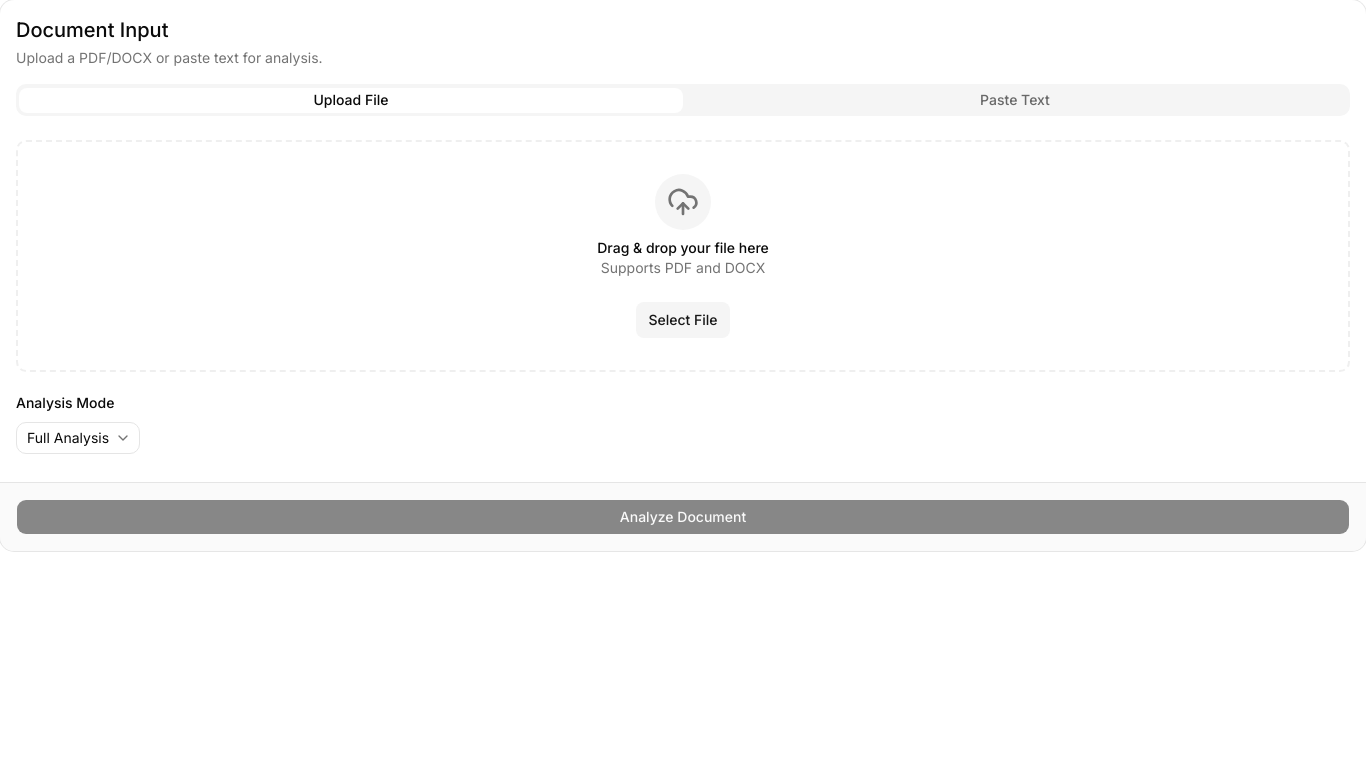
Test: DocumentInput Component › switches to paste tab
This screenshot has width=1366, height=768.
Click the tab "Paste Text".
click(1015, 100)  # box [683,88,1347,112]
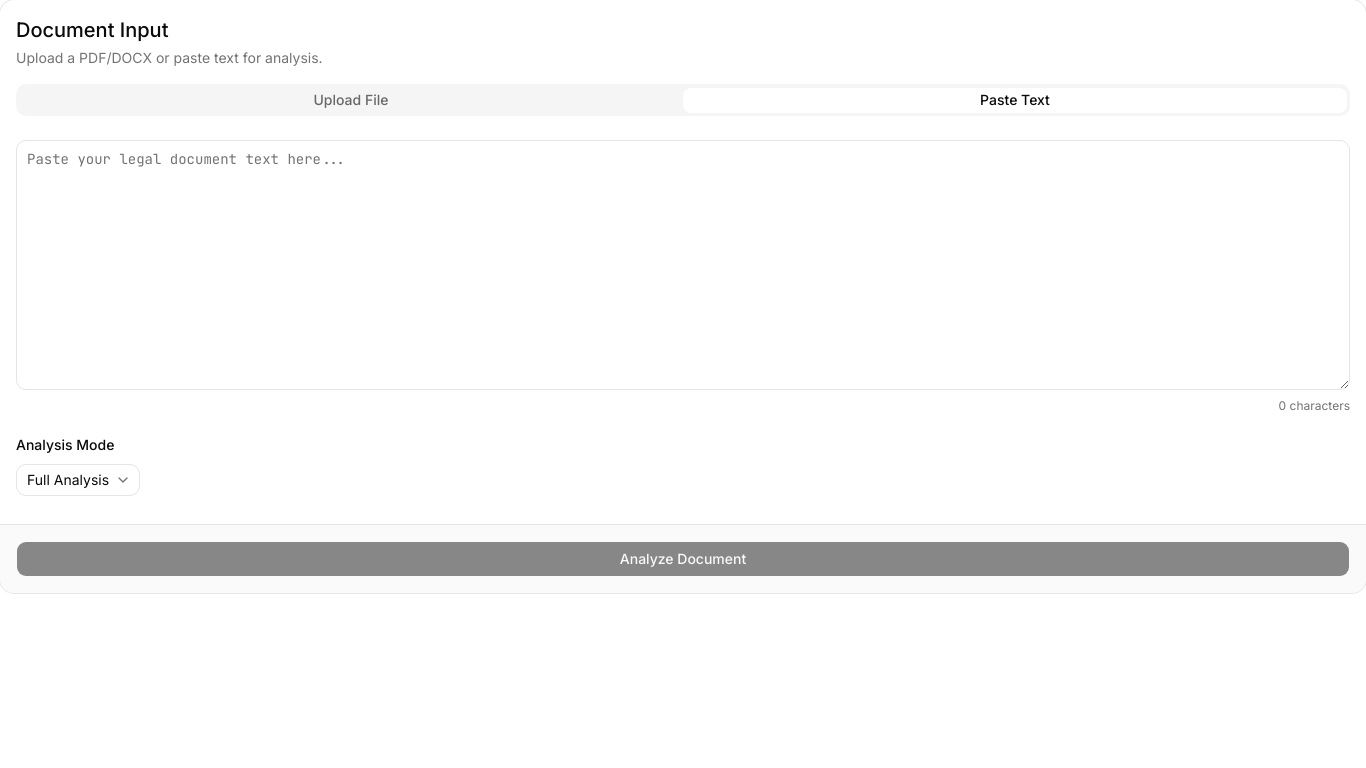
Check: the text box with placeholder "Paste your legal document text here..." is shown, box [16,140,1350,390]
